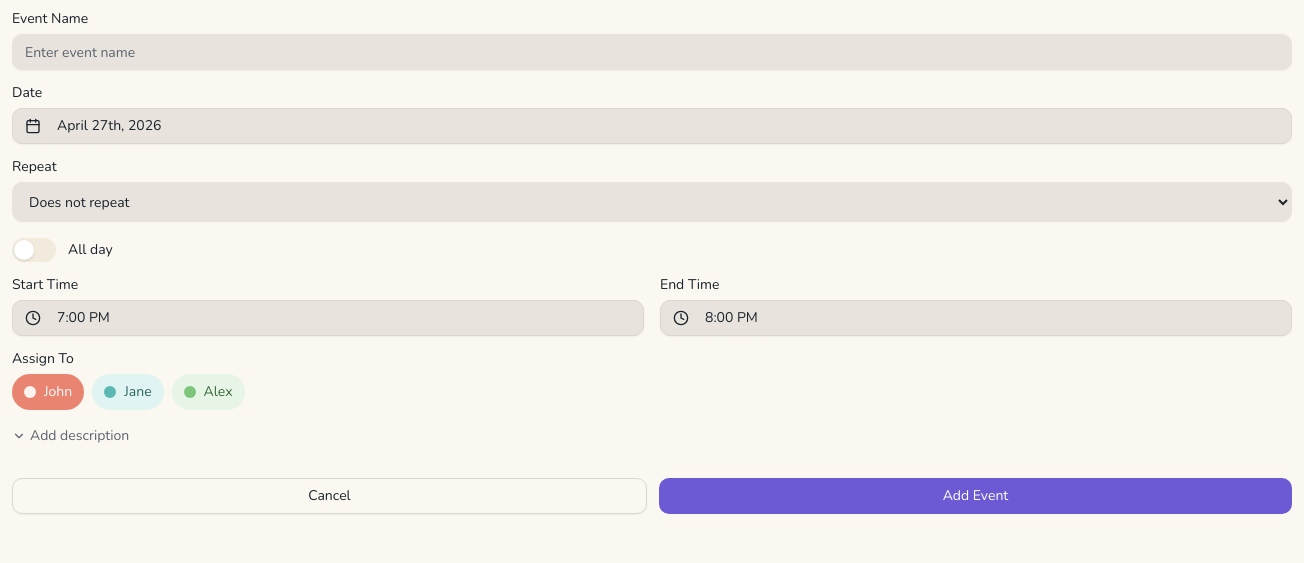
Test case: EventForm › Form Validation › shows error when title is empty on submit
Clear title and submit
Clear the field labelled "Event Name". click: (652, 52)
box: 12,34 -> 1292,70
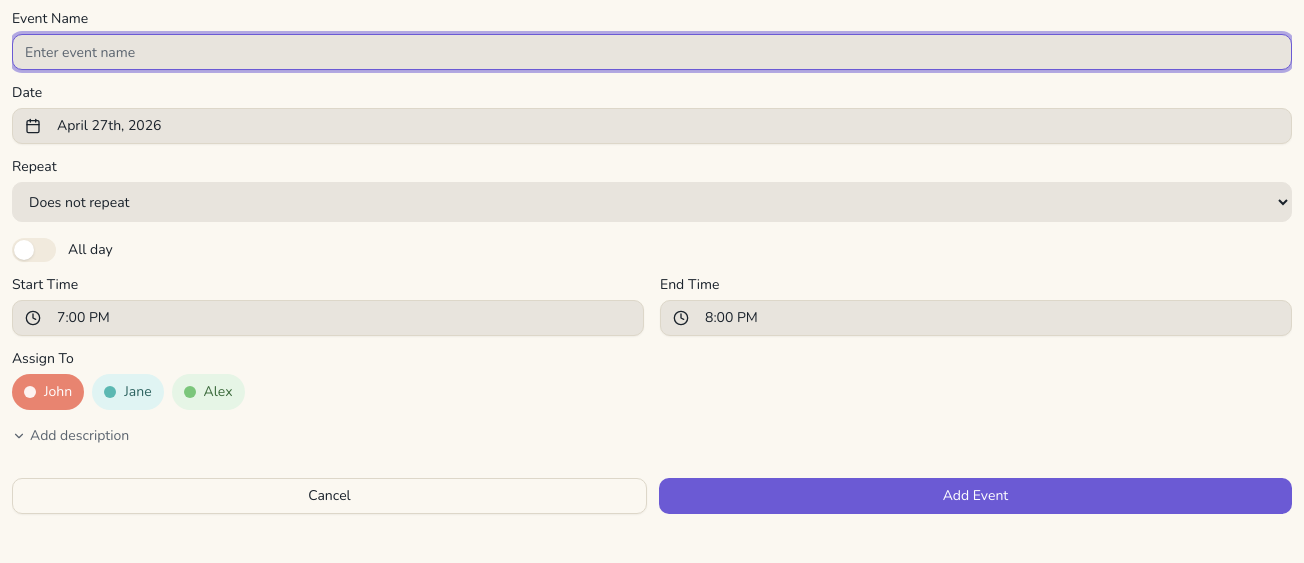
Click the button "Add Event". click: (976, 496)
box: 659,478 -> 1292,514
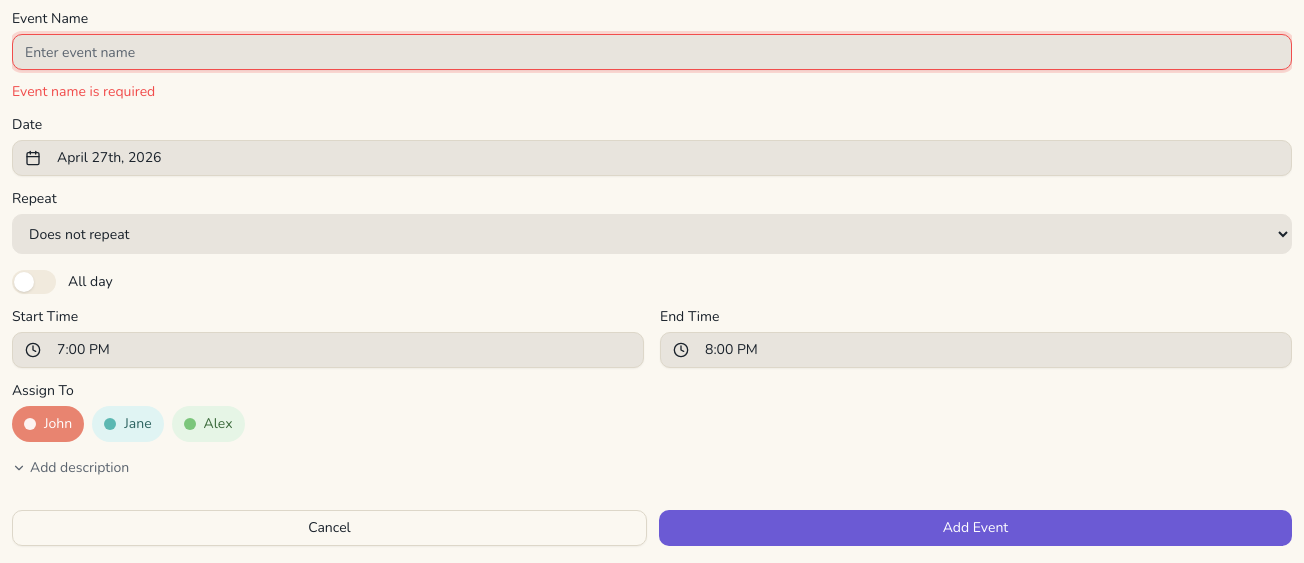
Expected: the text "Event name is required" is shown, 12,82 -> 155,101
